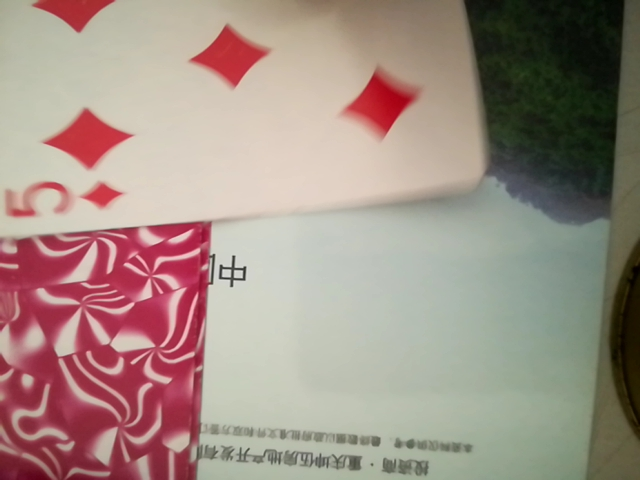fk 5: (0, 2, 498, 242)
